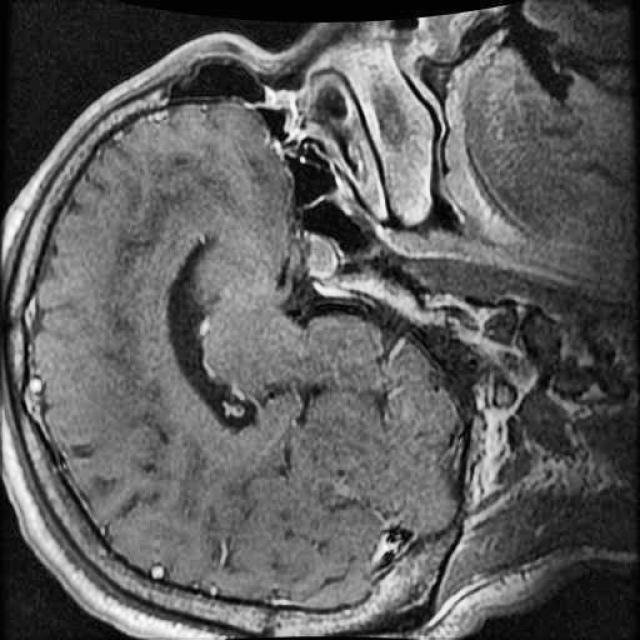Tumor: (292, 221, 354, 289)
